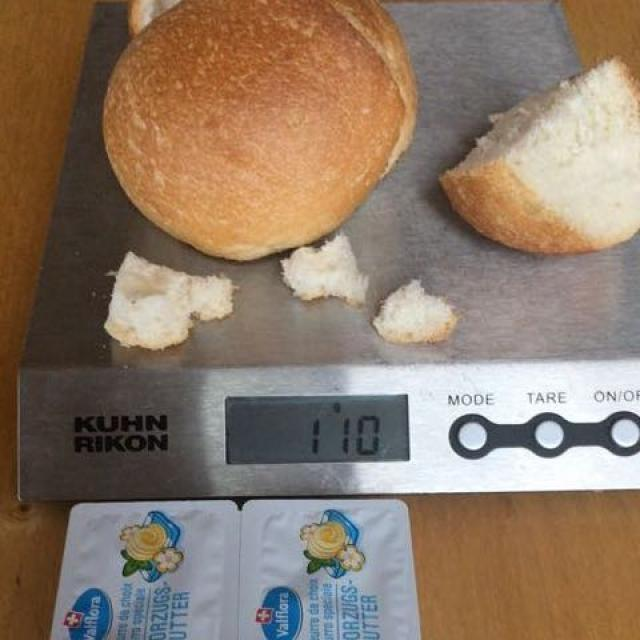butter: (50, 509, 431, 637)
